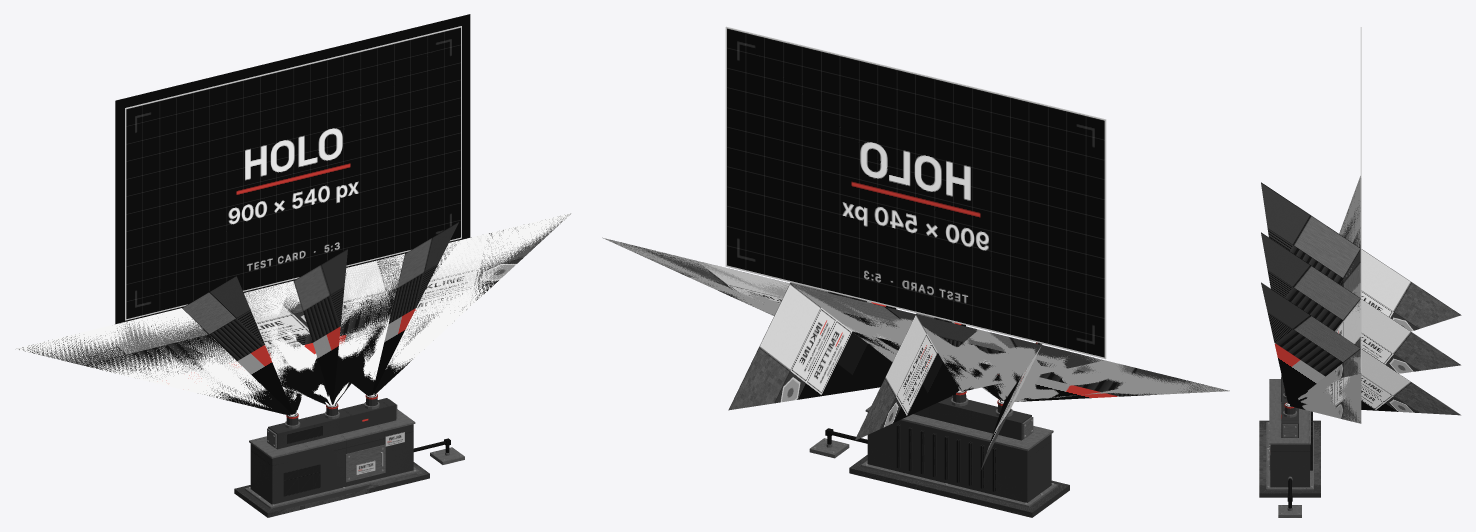
Rendered from display_holo.glb.
The picture shows the model from 3 angles, left to right: view 1: azimuth 30°, elevation 25°; view 2: azimuth 150°, elevation 25°; view 3: azimuth 270°, elevation 25°; orthographic projection. The views are drawn at different scales.
Visible parts, largest first — view 1: screen_holo, beam, farBody, body, glow; view 2: screen_holo, beam, farBody, body, glow; view 3: beam, body, farBody, glow.
Part boxes in pixels (x1,y1,x2,y2): screen_holo: (126,27,460,318); beam: (19,14,570,415); farBody: (15,213,571,517); body: (235,393,464,516); glow: (125,26,461,421); screen_holo: (727,28,1104,357); beam: (606,239,1227,470); farBody: (603,238,1229,517); body: (809,391,1069,517); glow: (725,26,1106,403); beam: (1261,181,1461,423); body: (1259,375,1320,517); farBody: (1259,176,1361,497); glow: (1281,27,1361,418).
Bounding box in the file's own units: 7.5 × 5.14 × 2.56.
Materials: 5 (5 with a texture image).
